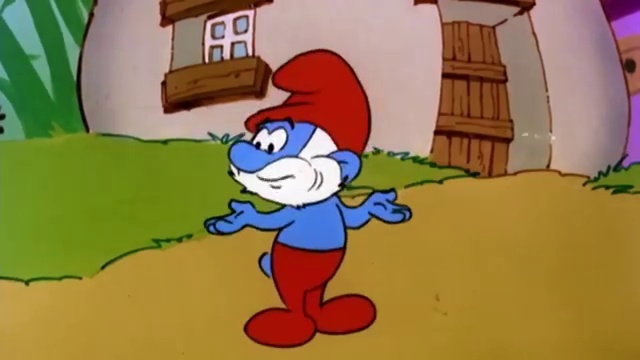smurf: (203, 49, 412, 350)
